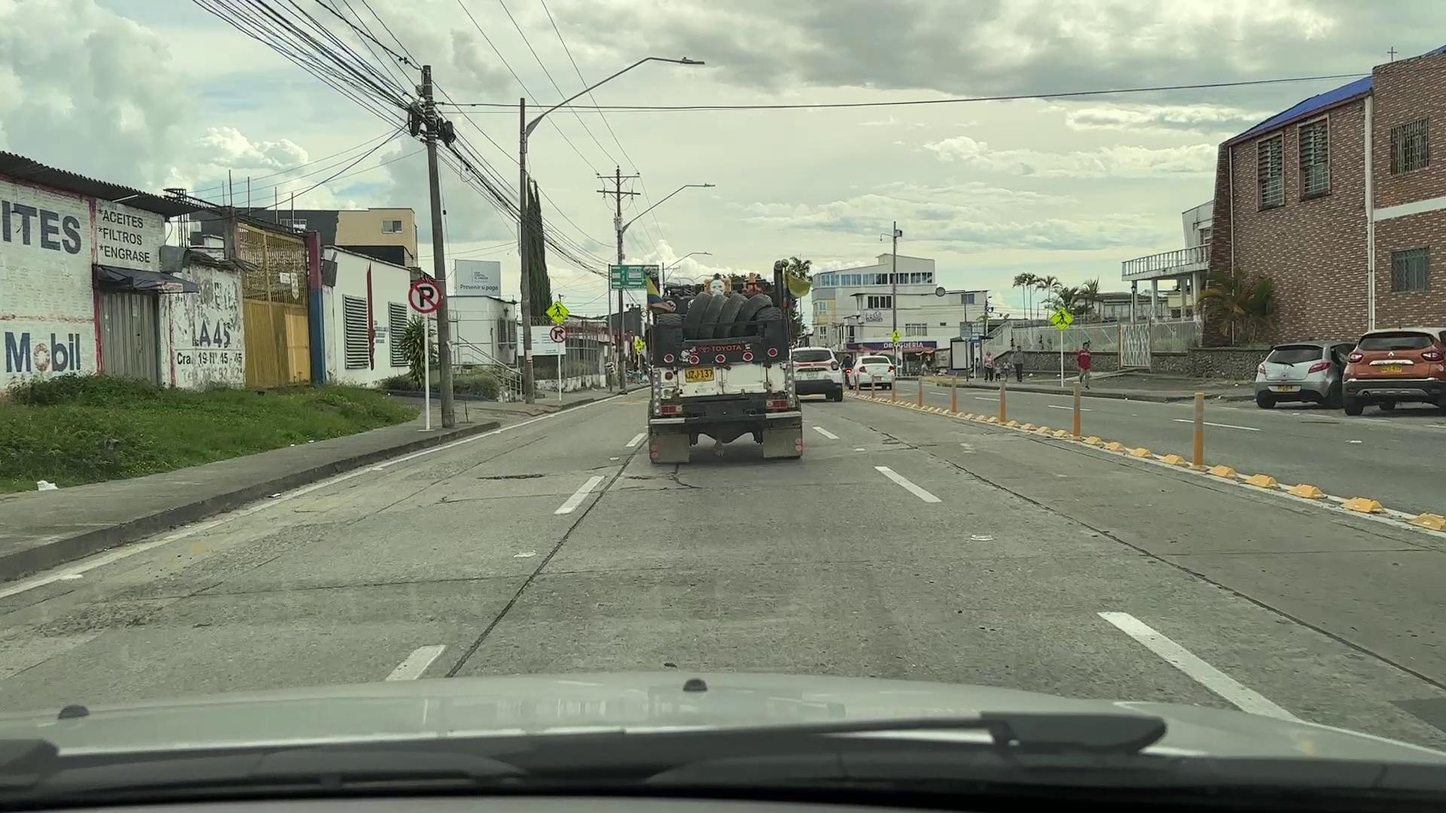bache: (480, 473, 545, 480), (623, 476, 657, 481)
grieta: (946, 460, 1055, 512), (670, 464, 703, 489)
